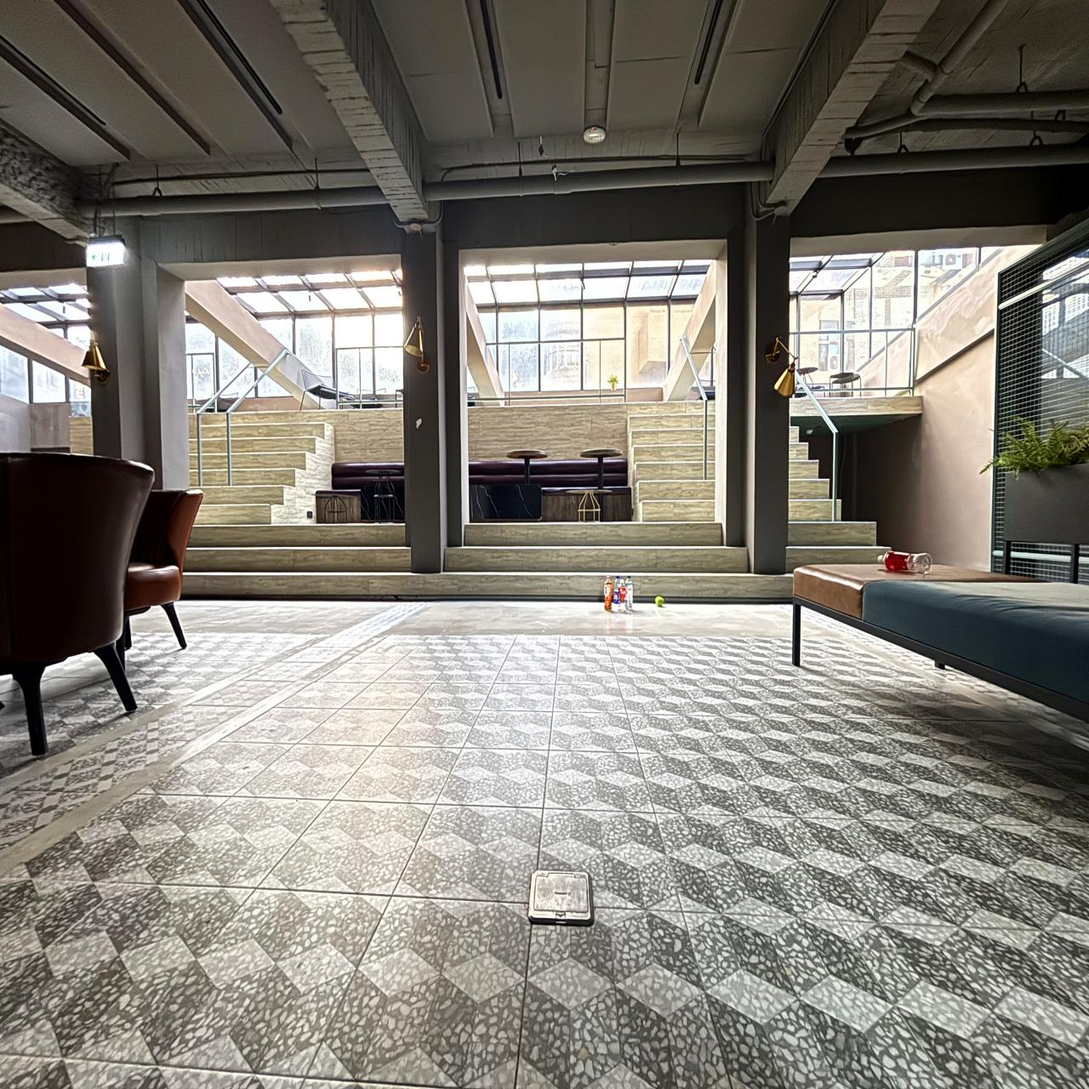plastic-bottle: (616, 577, 626, 611), (604, 576, 613, 610), (626, 576, 633, 612), (613, 576, 620, 611)
tennisball: (655, 596, 664, 607)
